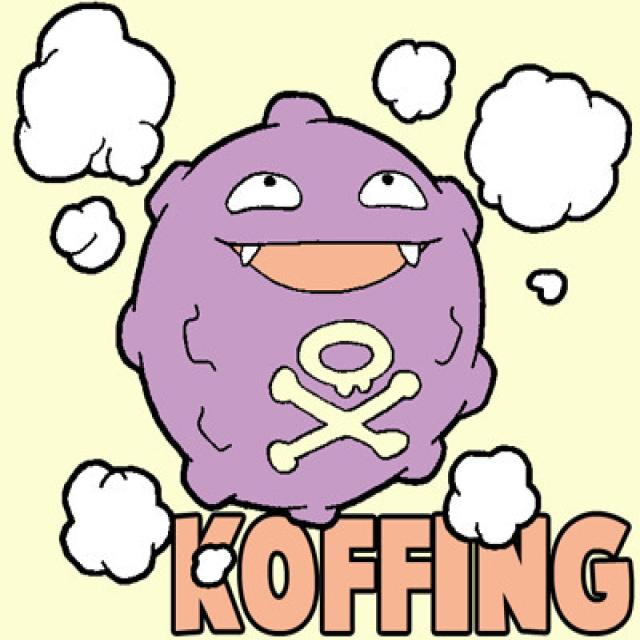Koffing: (121, 85, 502, 507)
